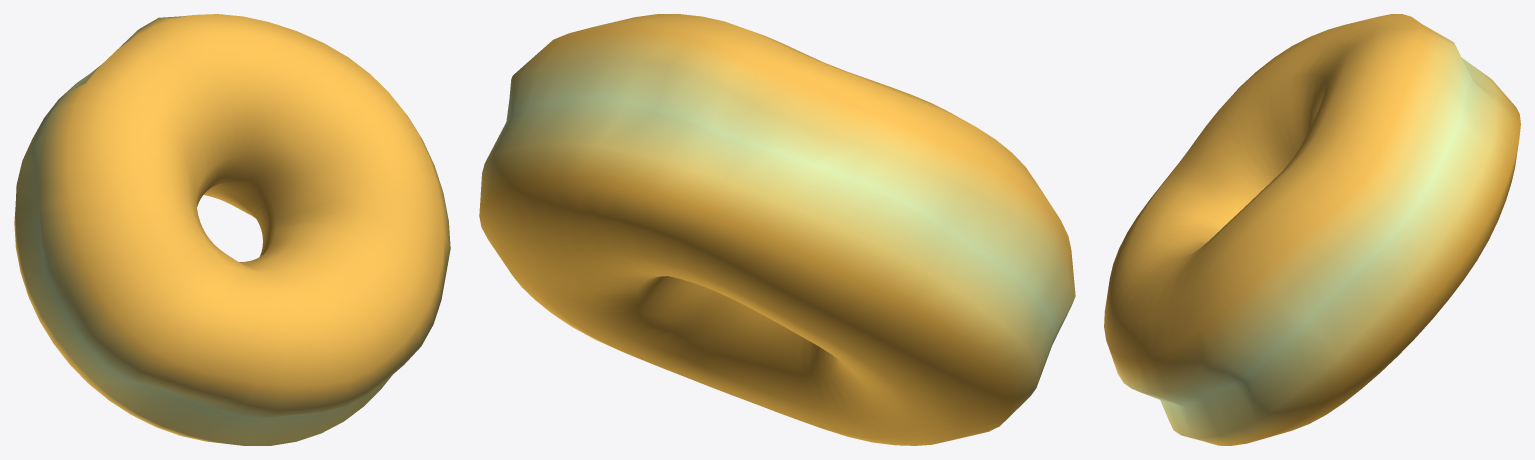
Rendered from donut.glb.
3 renders of one model, left to right at view 1: azimuth 30°, elevation 25°; view 2: azimuth 150°, elevation 25°; view 3: azimuth 270°, elevation 25°, orthographic. The views are drawn at different scales.
Visible parts, largest first — view 1: Donut; view 2: Donut; view 3: Donut.
Boxes of the visible parts, x1,y1,x2,y2 form: Donut: (14,14,450,445); Donut: (479,14,1075,445); Donut: (1104,14,1520,445).
Size of the model in its own units: 0.3401 by 0.3006 by 0.2969.
Materials: 1 (1 with a texture image).
